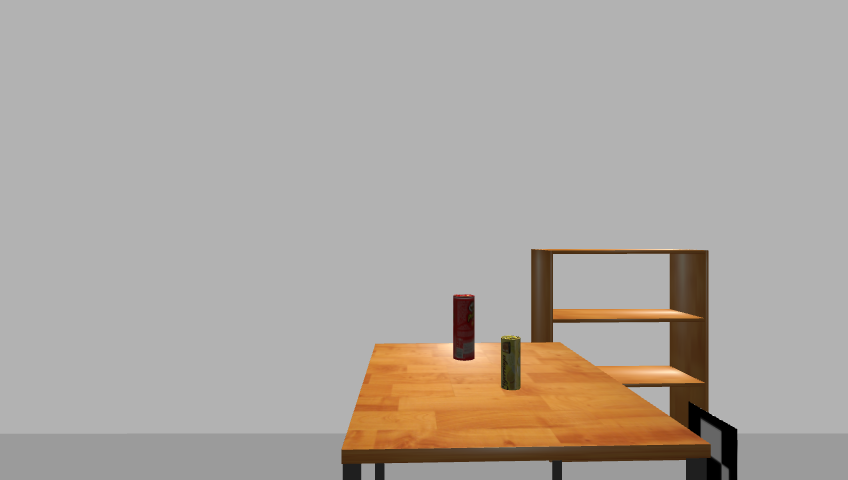aruco marker: (682, 401, 743, 479)
biscuits pack: (500, 336, 523, 392)
bookshelf: (528, 245, 716, 480)
dinner table: (335, 339, 713, 480)
pringles can: (451, 293, 477, 362)
